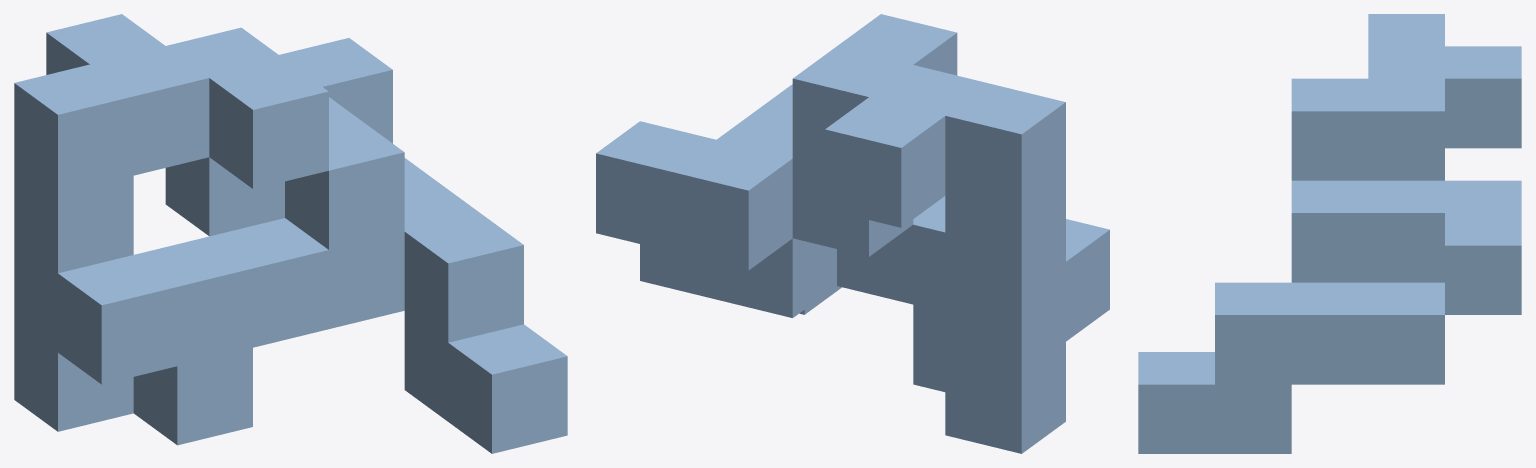
The picture shows the model from 3 angles, left to right: view 1: azimuth 30°, elevation 25°; view 2: azimuth 150°, elevation 25°; view 3: azimuth 270°, elevation 25°; orthographic projection. The views are drawn at different scales.
Parts seen in each view (by area): view 1: _changes (2).018; view 2: _changes (2).018; view 3: _changes (2).018.
Boxes of the visible parts, x1,y1,x2,y2 form: _changes (2).018: (14,14,567,453); _changes (2).018: (596,14,1109,453); _changes (2).018: (1138,14,1521,453).
Size of the model in its own units: 0.1999 by 0.1599 by 0.1999.
